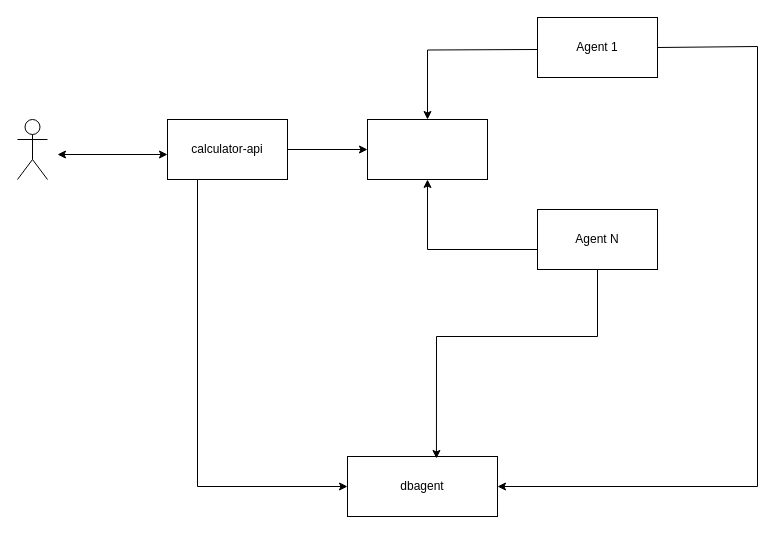
Image size: 783x534. Some labels were removed from this diagram. Here are the shapes that lost their labels. From the top down, the centre of each, then its label:
At [32,149]: "Actor".
At [427,149]: "message-broker(RabbitMQ)".
